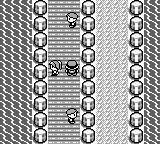captura: (0, 0, 31, 144), (144, 0, 160, 144)
main: (65, 60, 79, 76)
no-caminable: (79, 0, 96, 144), (32, 0, 49, 144), (129, 0, 144, 144)
npc: (48, 60, 63, 77), (66, 13, 78, 29), (67, 108, 78, 124)
